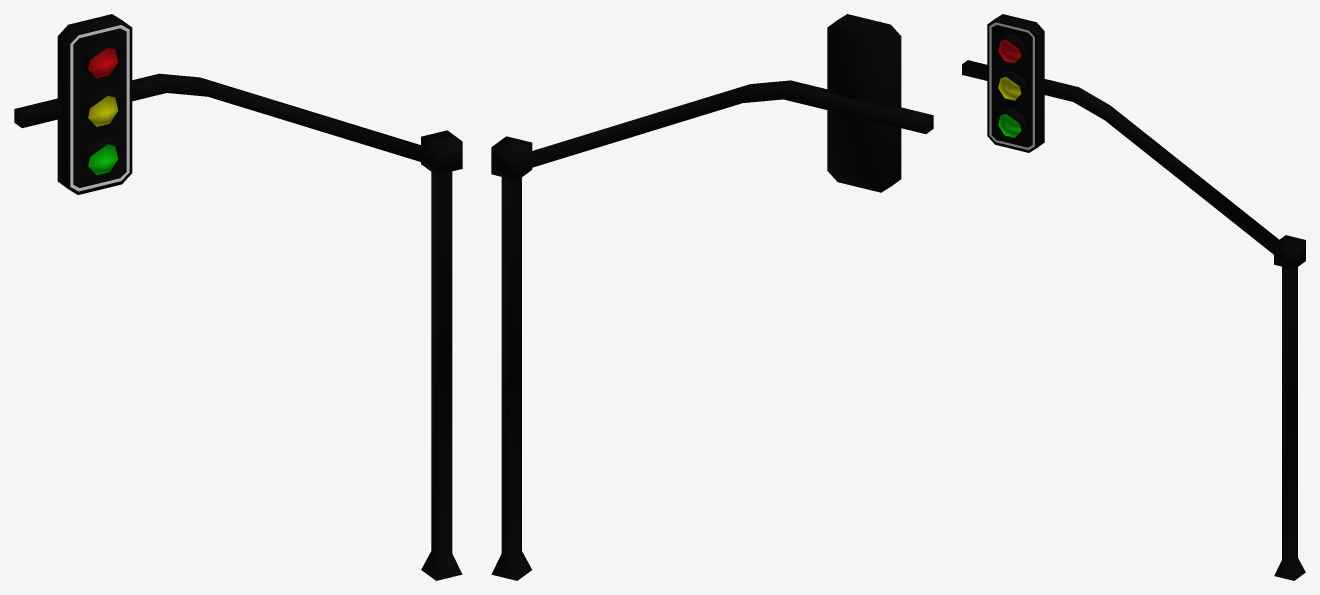
File: 5E_TrafficLight.fbx
3 renders of one model, left to right at view 1: azimuth 30°, elevation 25°; view 2: azimuth 150°, elevation 25°; view 3: azimuth 330°, elevation 25°, orthographic. The views are drawn at different scales.
Parts seen in each view (by area): view 1: TrafficsLight; view 2: TrafficsLight; view 3: TrafficsLight.
Boxes of the visible parts, box(x1,y1,x2,y2) form: TrafficsLight: box(14, 14, 462, 580); TrafficsLight: box(491, 14, 933, 580); TrafficsLight: box(962, 14, 1305, 580).
Bounding box in the file's own units: 332 × 465 × 38.02.
